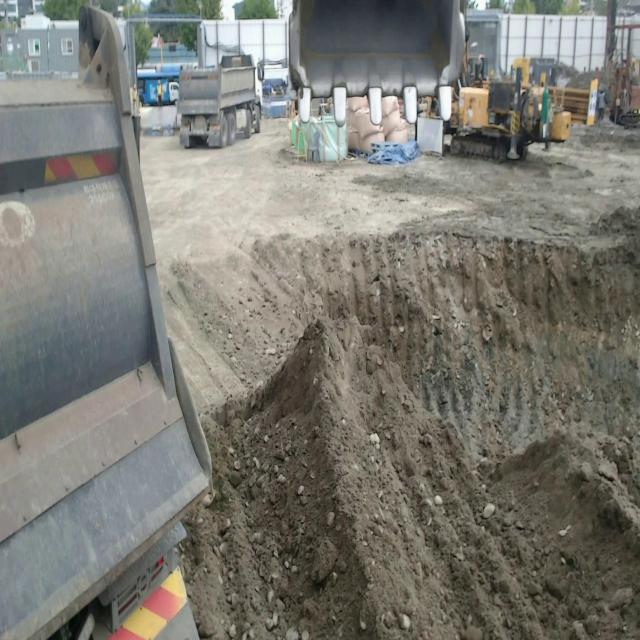red-sand: (142, 122, 640, 640)
